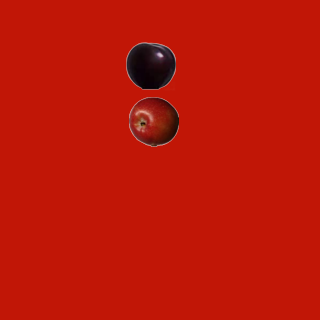Apple Braeburn: (128, 96, 178, 146)
Cherry Wax Black: (125, 40, 175, 90)
